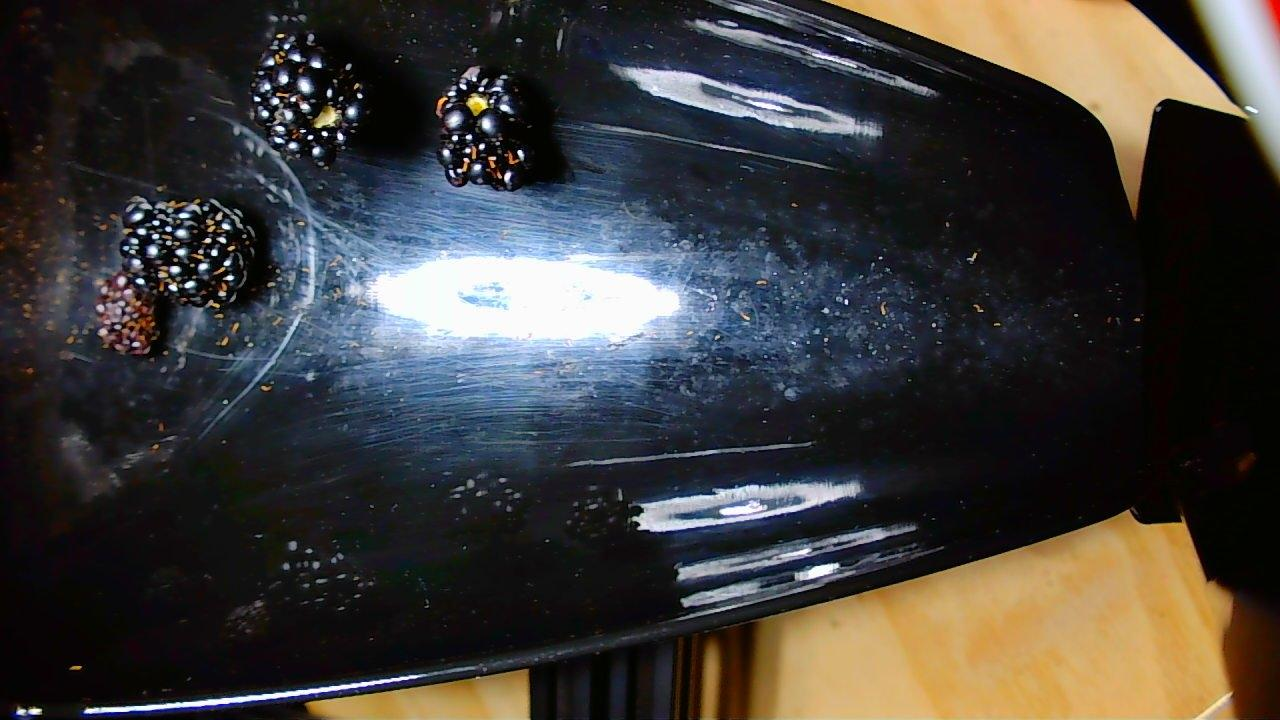berry: (110, 194, 264, 308), (248, 17, 361, 169), (436, 64, 540, 188), (91, 276, 162, 358)
